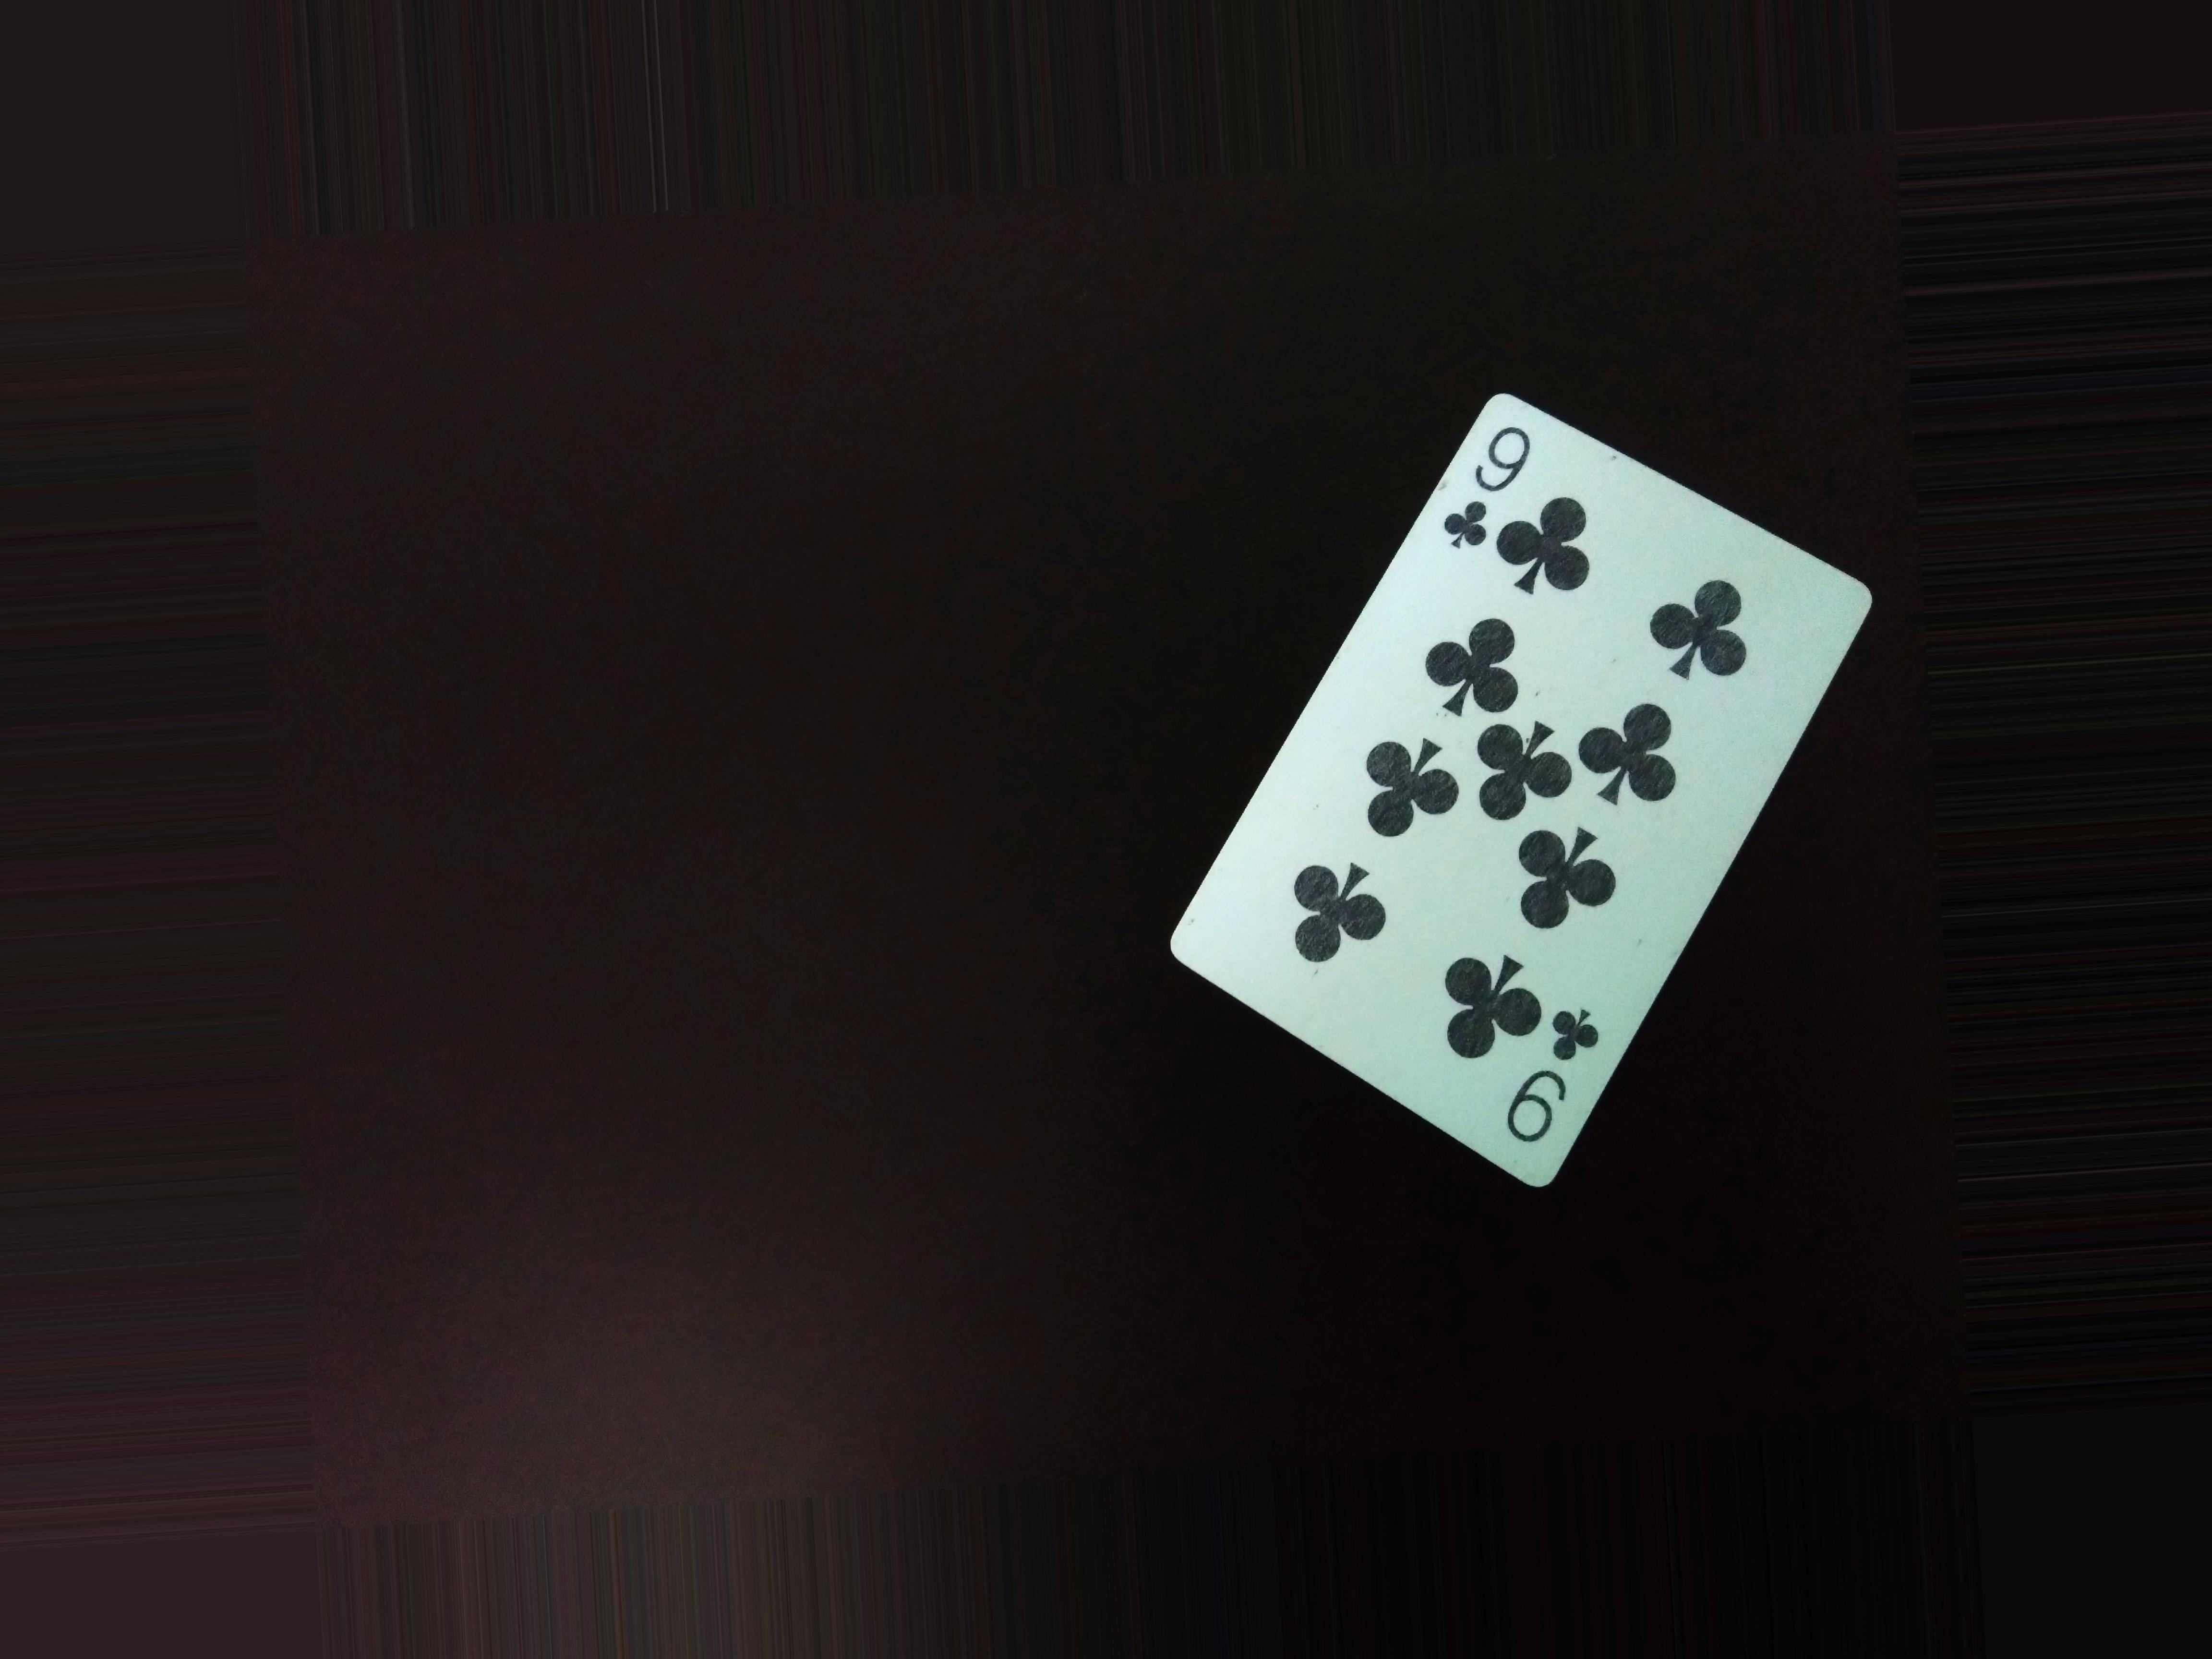9C: (1507, 1018, 1601, 1159)
